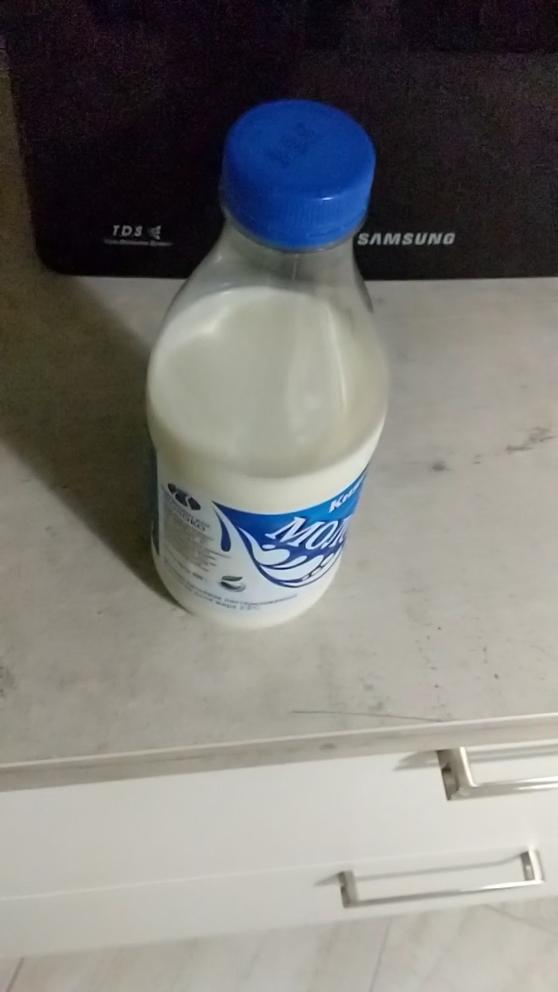milk: (134, 91, 403, 649)
